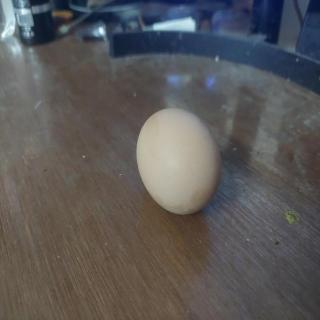Telur: (135, 102, 228, 221)
